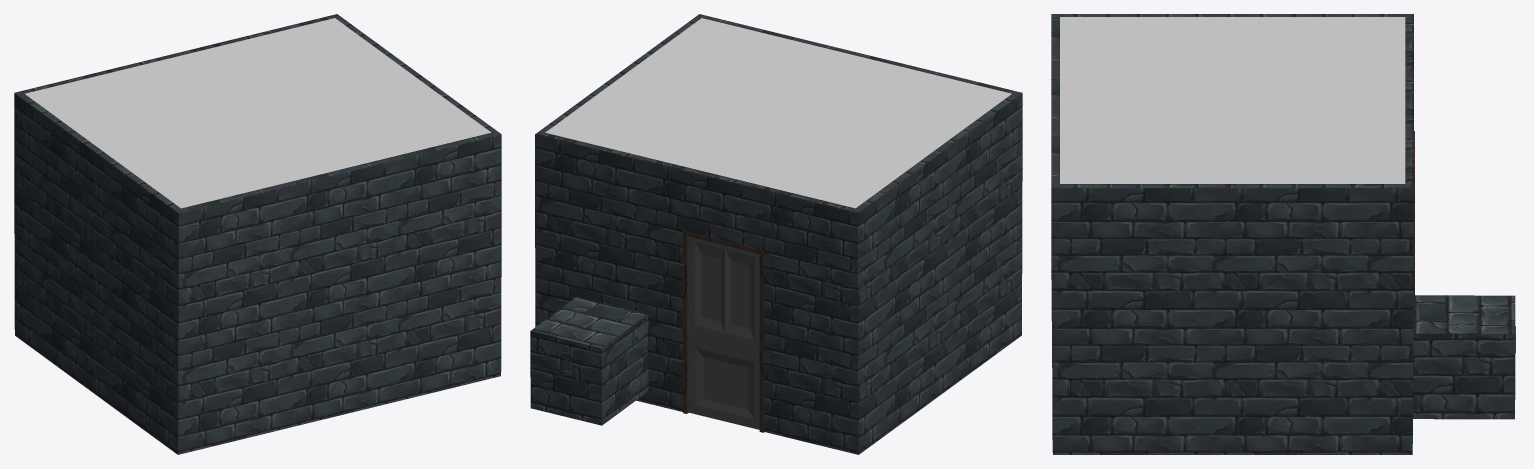
3 views of the same model, side by side, from view 1: azimuth 30°, elevation 25°; view 2: azimuth 150°, elevation 25°; view 3: azimuth 270°, elevation 25° (orthographic). The views are drawn at different scales.
Parts seen in each view (by area): view 1: obj_base_walls001, obj_base_ceiling001; view 2: obj_base_walls001, obj_base_ceiling001, obj_base_door001; view 3: obj_base_walls001, obj_base_ceiling001.
Boxes of the visible parts, x1,y1,x2,y2 form: obj_base_walls001: (14, 14, 501, 454); obj_base_ceiling001: (25, 18, 491, 208); obj_base_walls001: (530, 14, 1022, 454); obj_base_ceiling001: (545, 18, 1011, 208); obj_base_door001: (688, 236, 759, 429); obj_base_walls001: (1051, 14, 1515, 454); obj_base_ceiling001: (1060, 17, 1405, 183).
Bounding box in the file's own units: 168 × 121 × 192.
Materials: 9 (6 with a texture image).
